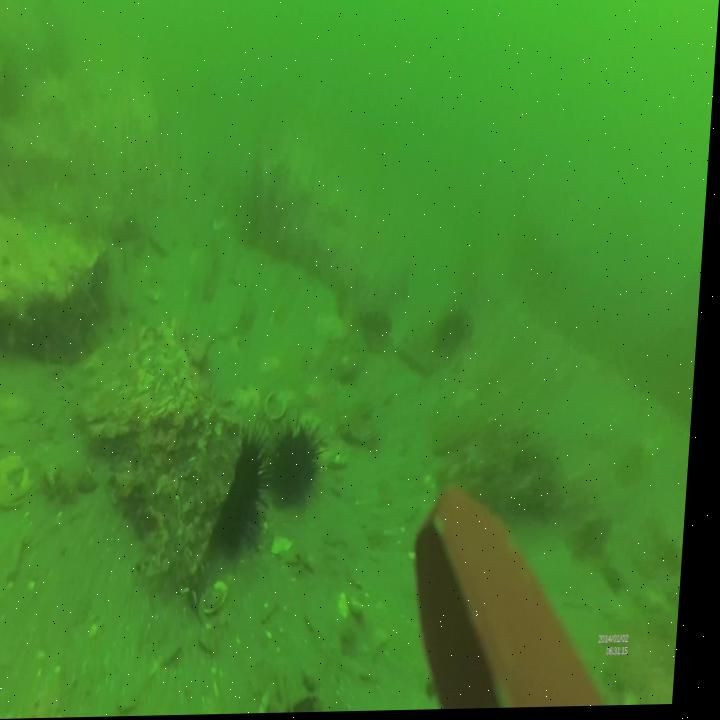echinus: (217, 430, 283, 560), (274, 420, 329, 510)
scallop: (279, 537, 303, 562)
